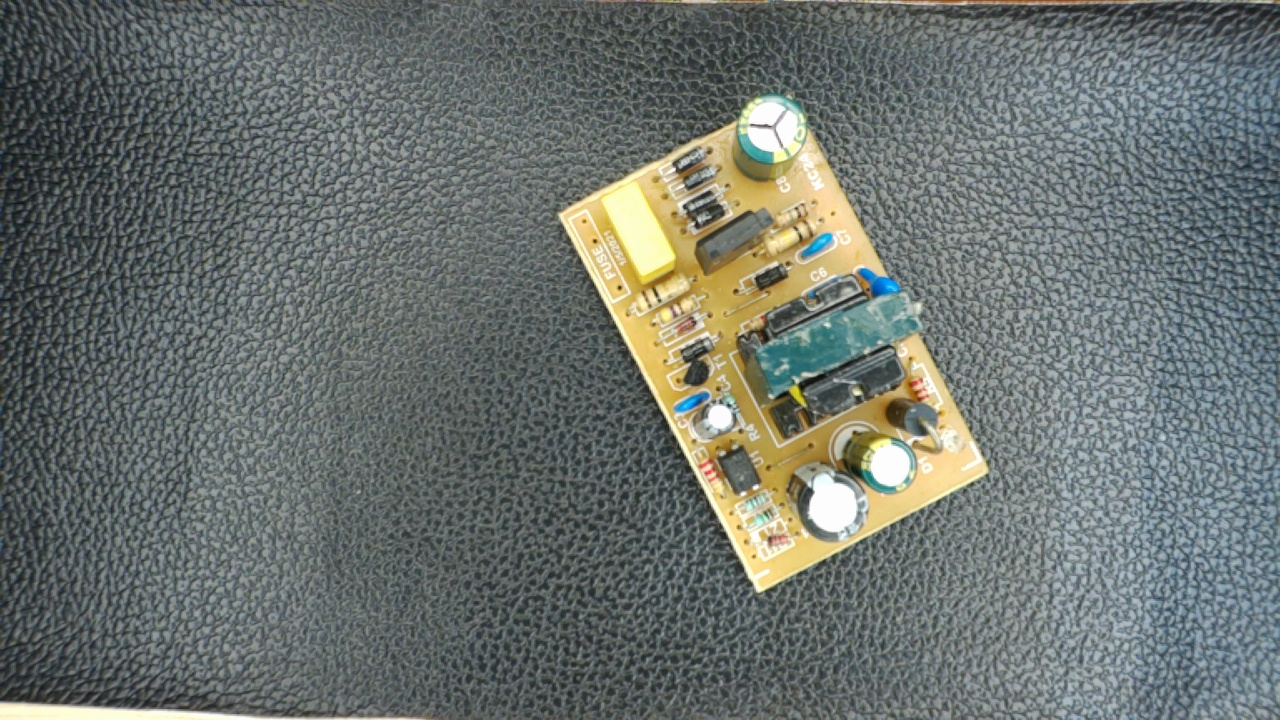hv_capacitor: (731, 93, 810, 183)
mov: (854, 261, 900, 299)
optocoupler: (713, 440, 764, 500)
